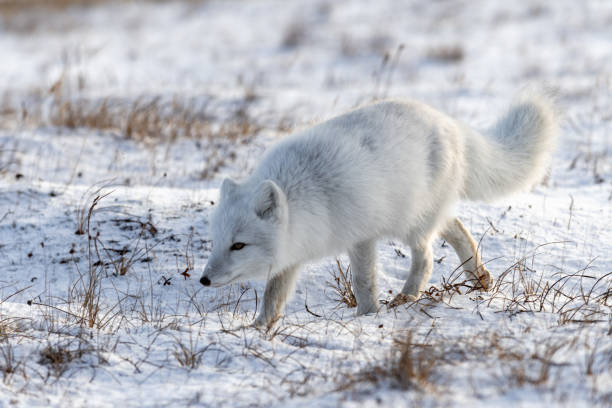arcticfox: (188, 194, 294, 308)
